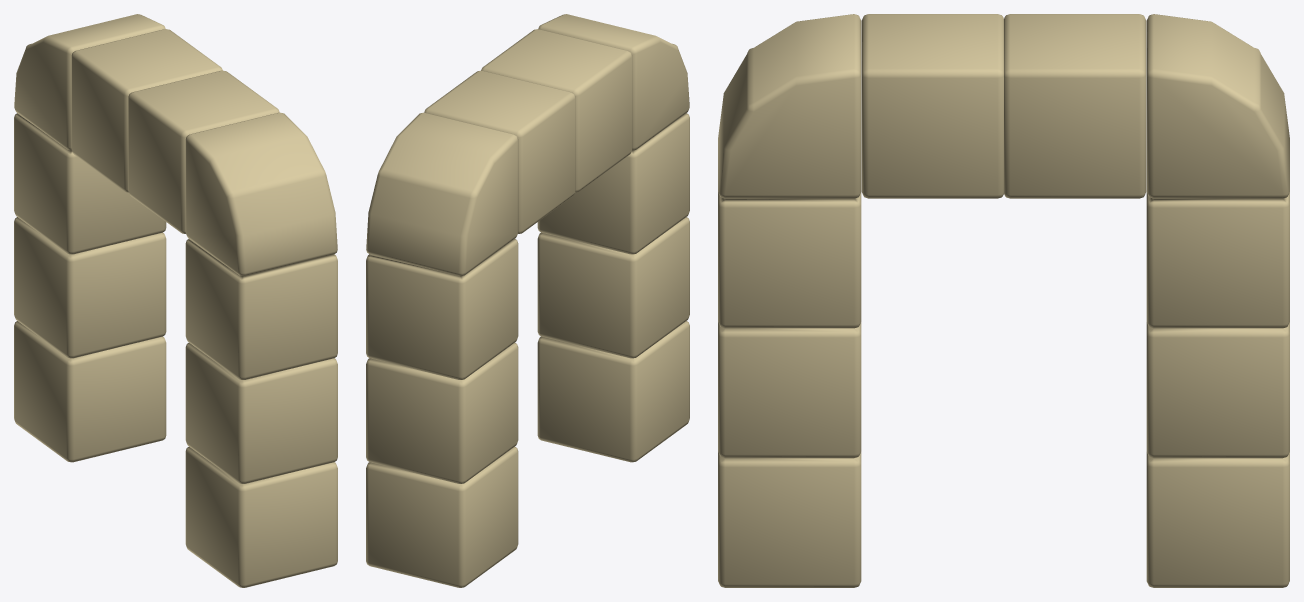
The model's file is PortaSingleAberta.fbx.
The picture shows the model from 3 angles, left to right: view 1: azimuth 30°, elevation 25°; view 2: azimuth 150°, elevation 25°; view 3: azimuth 270°, elevation 25°; orthographic projection. The views are drawn at different scales.
Visible parts, largest first — view 1: Door.003; view 2: Door.003; view 3: Door.003.
Boxes of the visible parts, x1,y1,x2,y2 form: Door.003: [14, 14, 337, 587]; Door.003: [366, 14, 689, 587]; Door.003: [718, 14, 1289, 587].
Bounding box in the file's own units: 209 × 52.22 × 209.
